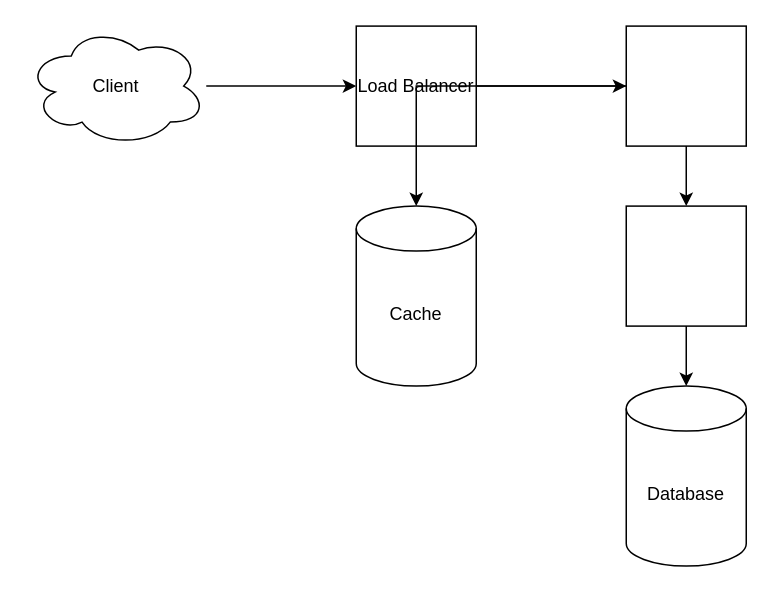
Some shapes in this 773 by 593 pixel diagram are drawn without their labels. Here are the shapes that lost their labels. From the top down, the centre of each, then its label:
pixel 685 85: API Server
pixel 685 265: Search Service
